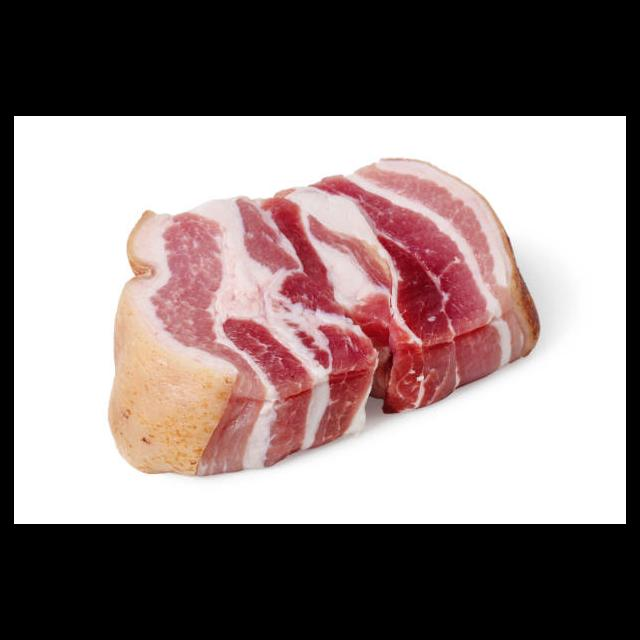pork: (117, 189, 354, 473), (309, 153, 542, 416)
